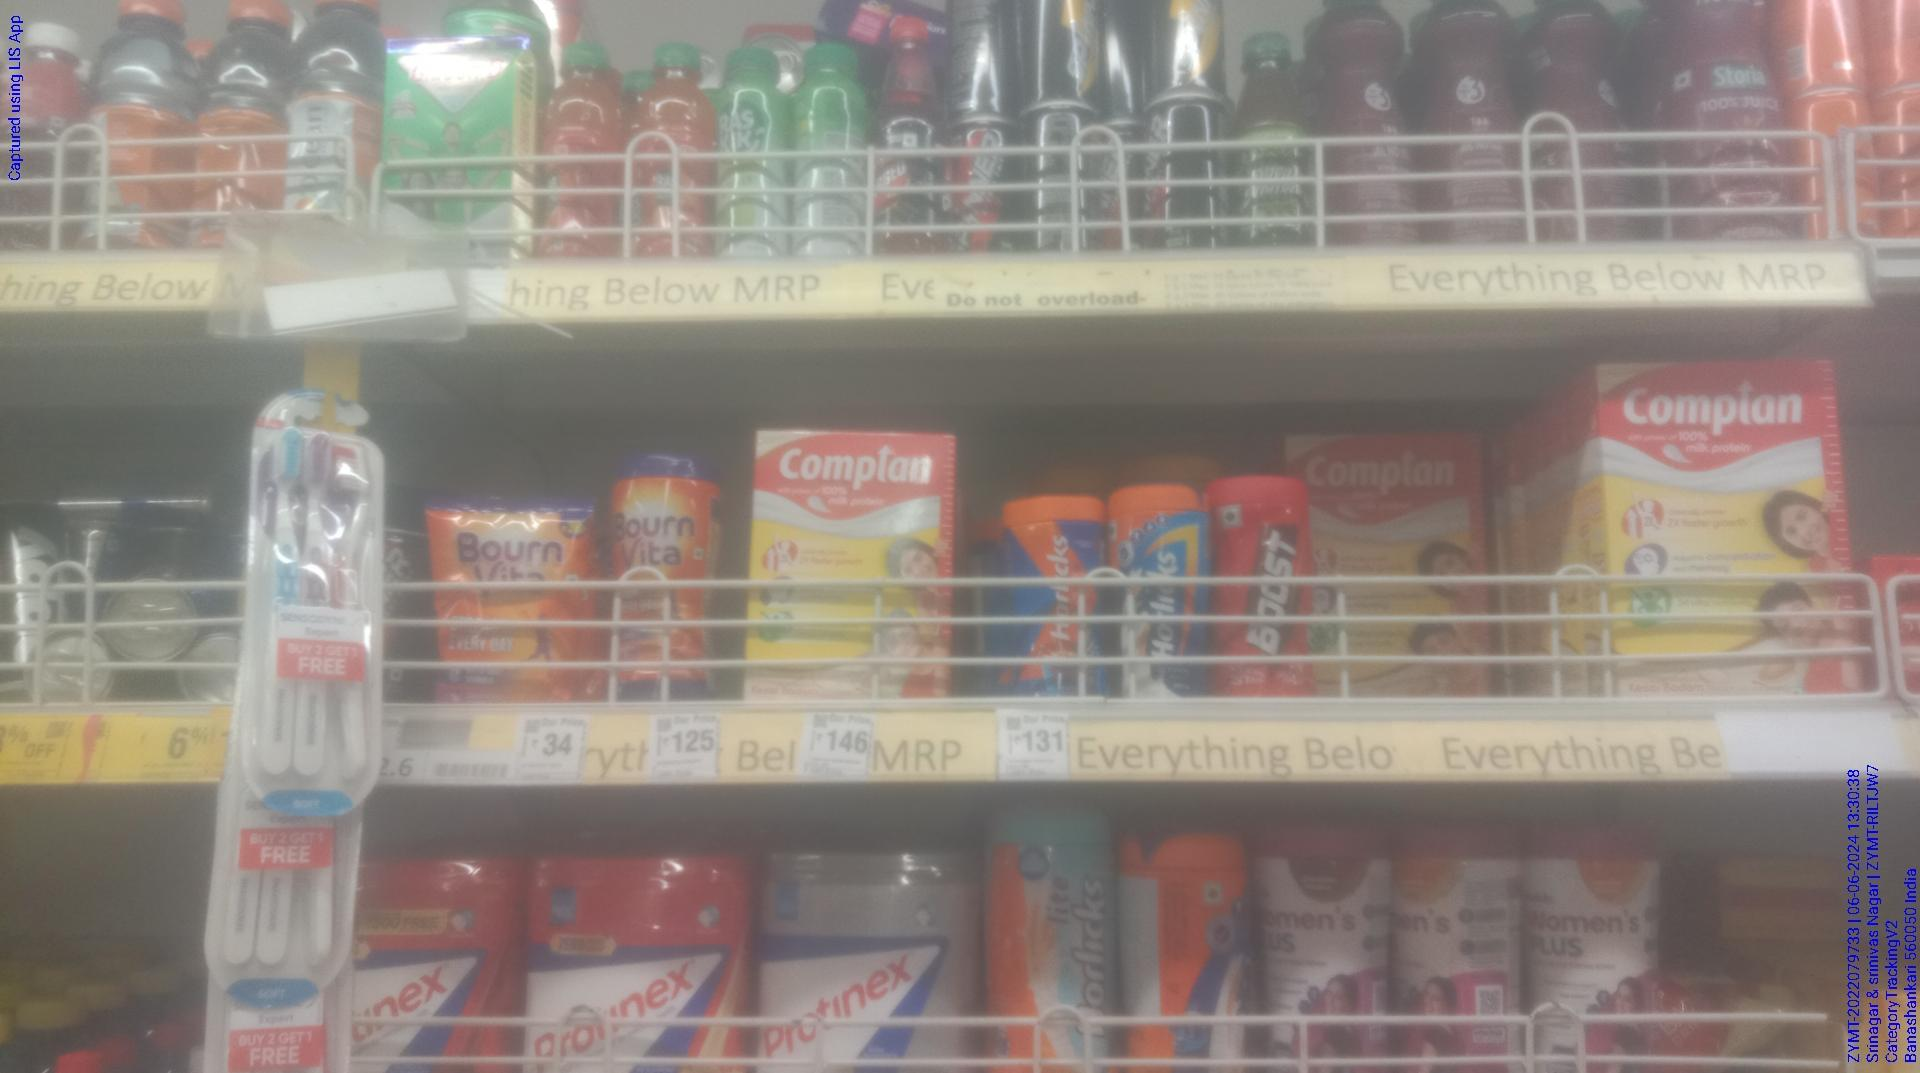BOURN_VITA_200_G_JAR: (607, 452, 716, 689)
BOURN_VITA_75_G_POUCH: (438, 494, 596, 704)
HORLICKS_LITE_REGULAR_MALT_500_GM_JAR: (994, 800, 1126, 1073)
HORLICK_CLASSIC_MALT_200_G_JAR: (1100, 494, 1207, 699)
PROTINEX_CHOCOLATE_400_G_JAR: (342, 848, 527, 1073)
PROTINEX_ORIGINAL_400_G_JAR: (758, 848, 982, 1073)
PROTINEX_VANILLA_400_G_JAR: (527, 858, 736, 1073)
